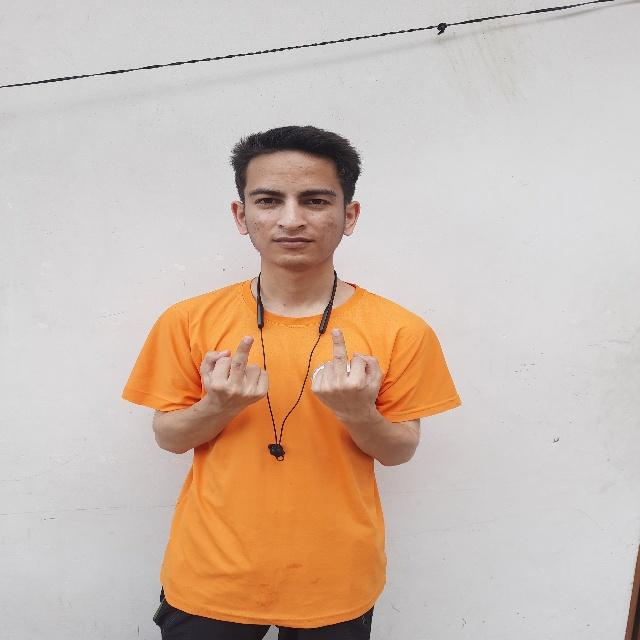Middle Finger: (190, 327, 275, 425), (306, 324, 388, 425)
